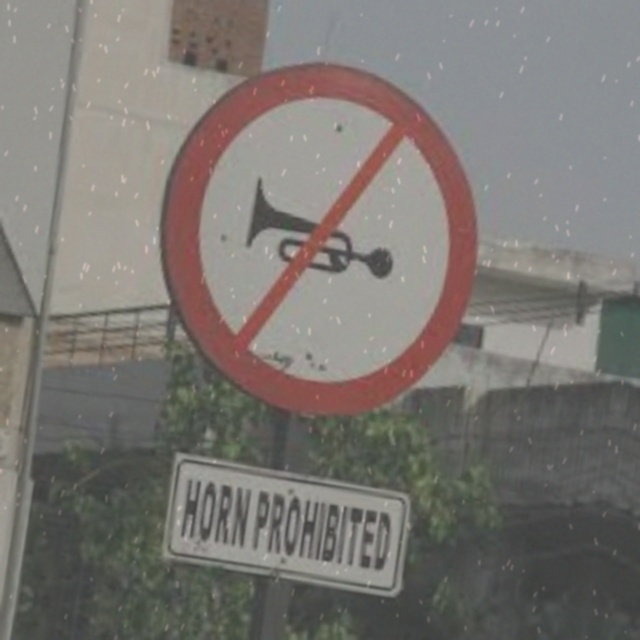Horn_Prohibited: (149, 46, 500, 432)
